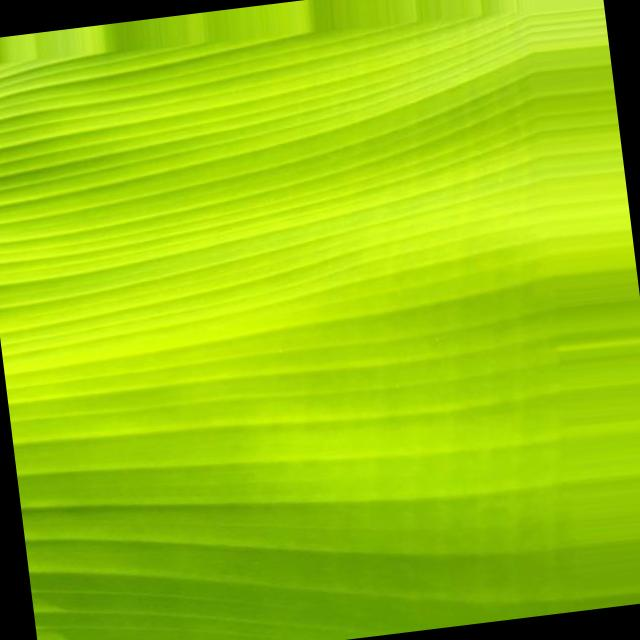Banana_Healthy: (0, 0, 631, 621)
